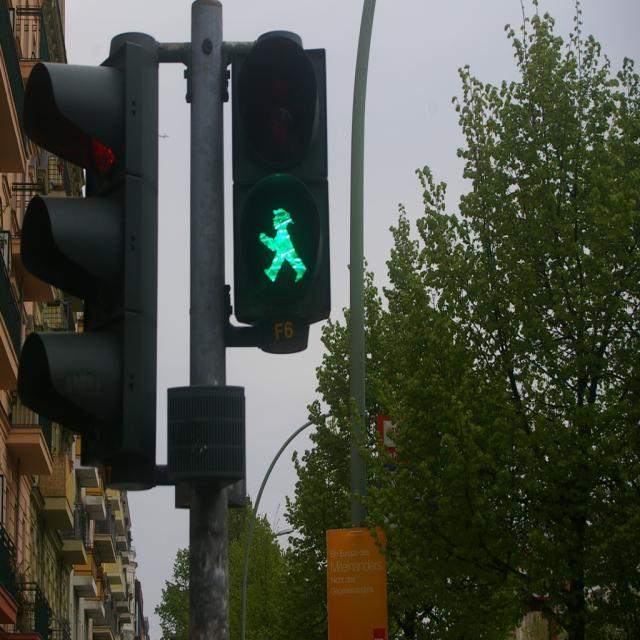traffic light: (25, 40, 172, 461), (229, 28, 330, 328)
